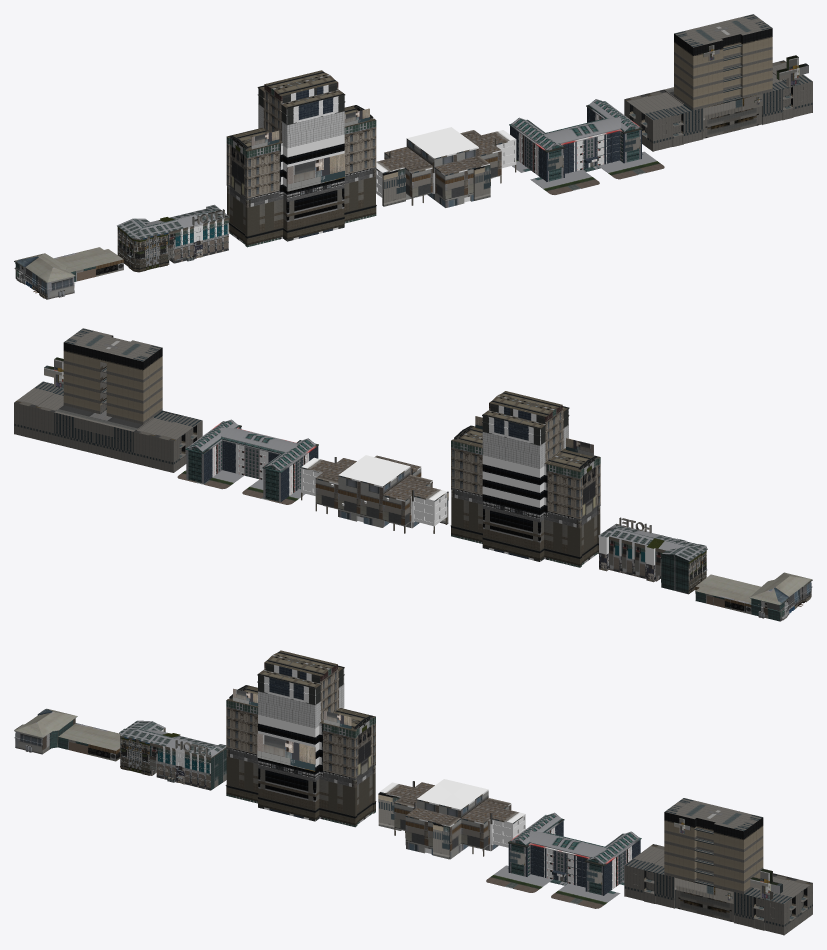
File: BUILDINGS.fbx
3 views of the same model, one above another, from view 1: azimuth 30°, elevation 25°; view 2: azimuth 150°, elevation 25°; view 3: azimuth 330°, elevation 25° (orthographic).
Visible parts, largest first — view 1: BANK, BUILDINGS, police station, schoool, hotel, house01; view 2: BANK, BUILDINGS, police station, schoool, hotel, house01; view 3: BANK, BUILDINGS, police station, schoool, hotel, house01.
Part boxes in pixels (x1,y1,x2,y2): BANK: (226,70,376,247); BUILDINGS: (624,14,812,151); police station: (376,127,516,207); schoool: (509,99,664,194); hotel: (117,204,229,272); house01: (14,247,123,299); BANK: (450,391,600,567); BUILDINGS: (14,328,202,472); police station: (301,455,448,533); schoool: (177,419,318,504); hotel: (598,517,707,594); house01: (695,572,812,621); BANK: (225,650,376,827); BUILDINGS: (624,798,812,935); police station: (378,779,525,859); schoool: (486,812,641,908); hotel: (119,720,226,790); house01: (14,708,120,761).
Size of the model in its own units: 142648 by 25232 by 17202.
1 material, 1 textured.
